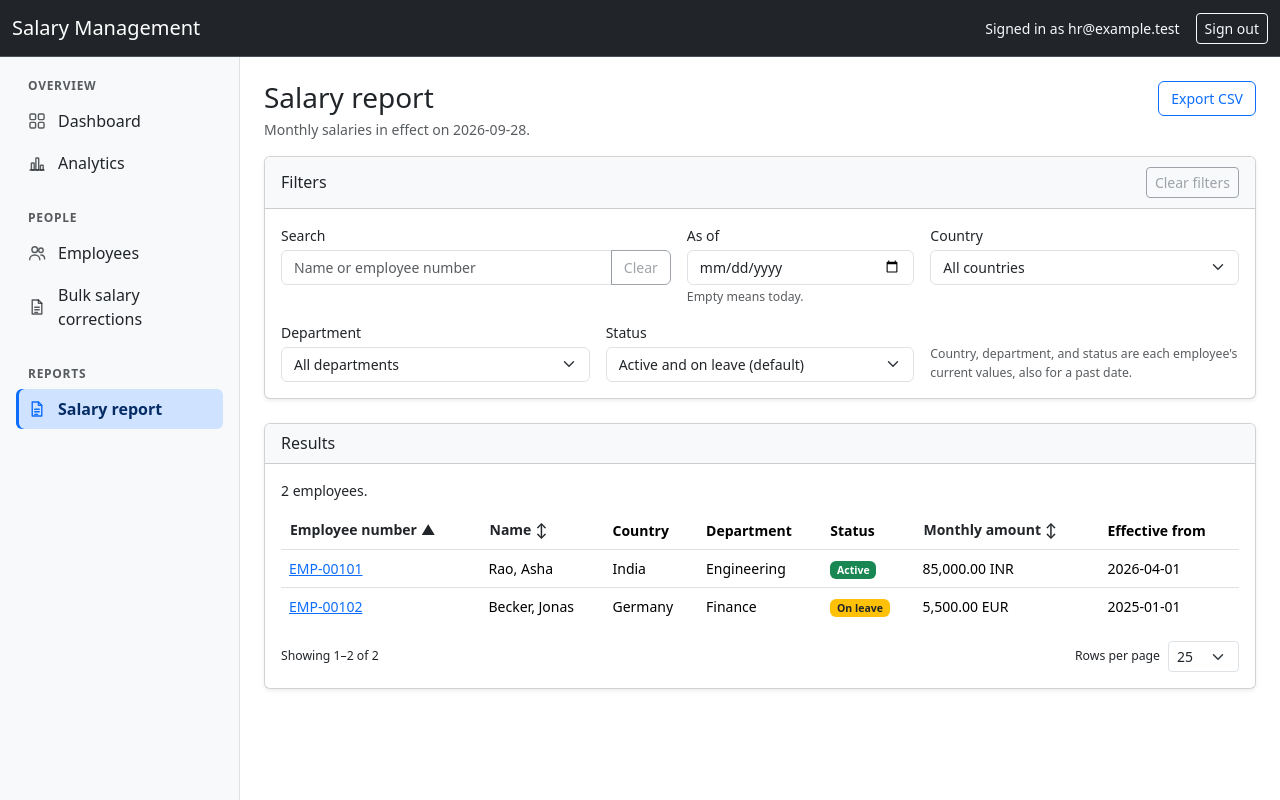
Test: SalaryReportPage › disables Export CSV while the file is being prepared
Check: the heading "Salary report" is shown, box [264,78,434,116]
Check: the table named "Salary report" is shown, box [281,509,1239,625]
Step 1. Click the button "Export CSV" → (1207, 98), box [1158,81,1256,116]
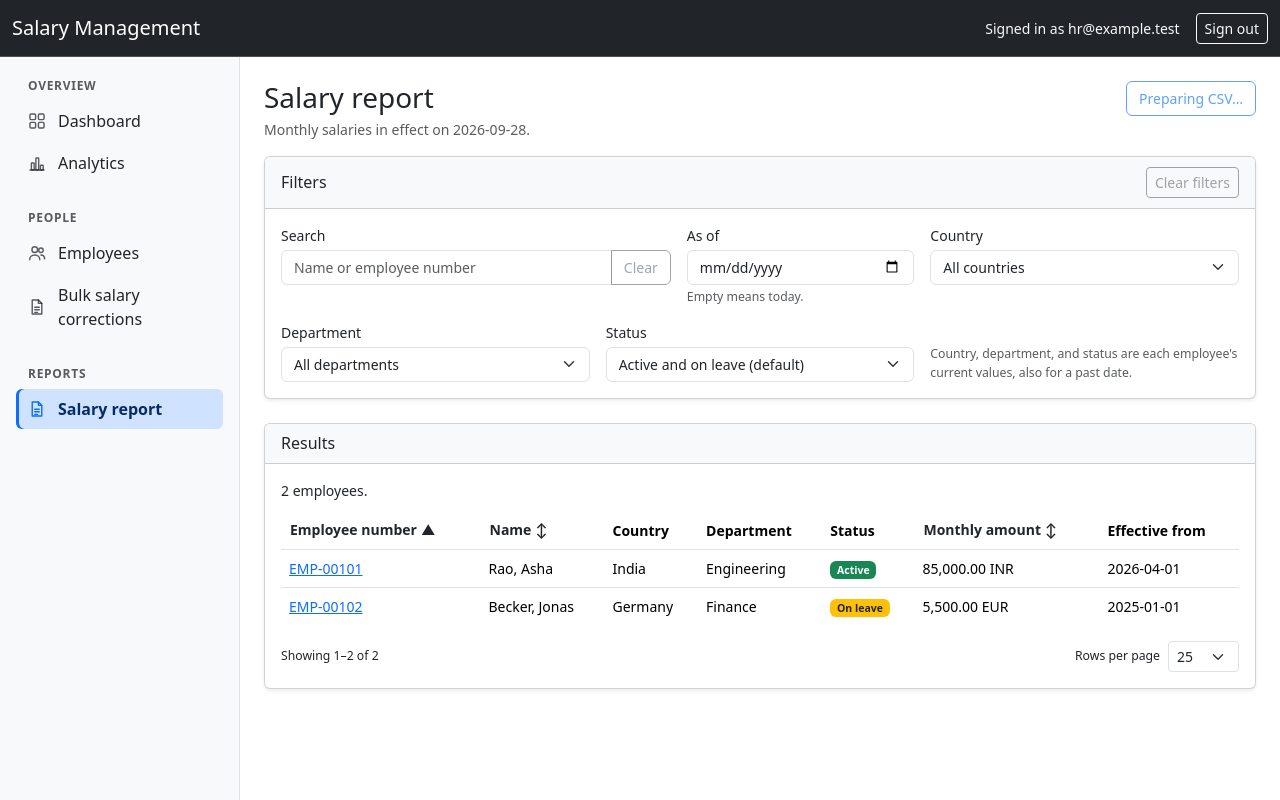
Check: the button "Preparing CSV…" is disabled, box [1126,81,1256,116]
